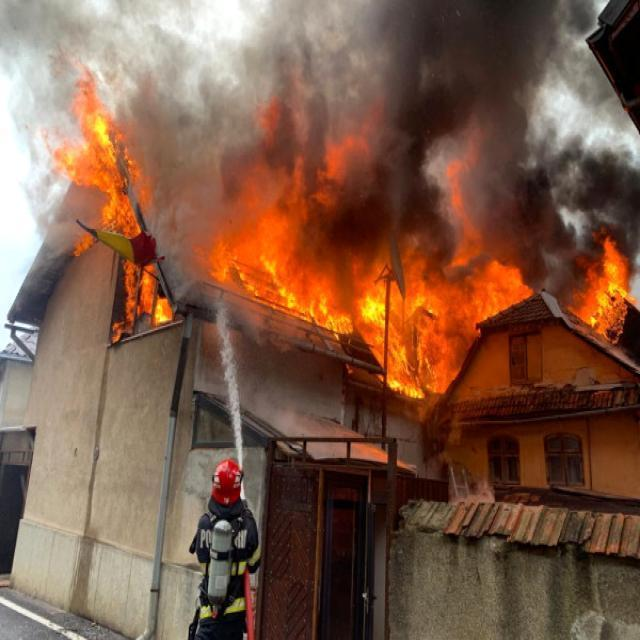Fire: (201, 86, 539, 413), (44, 60, 178, 345), (562, 230, 638, 345)
Smoke: (194, 3, 589, 109), (2, 0, 186, 140), (472, 93, 638, 228)
